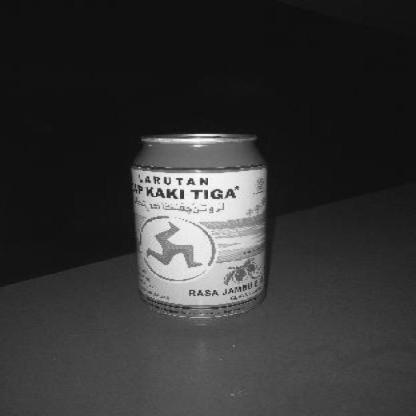alumunium_can: (126, 132, 269, 322)
